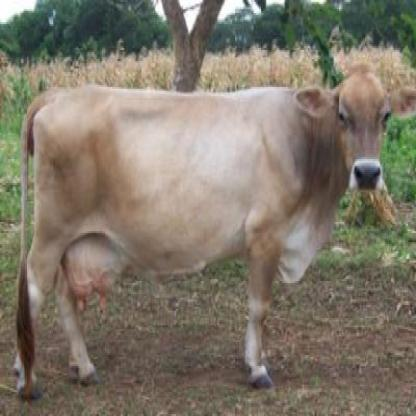mouth: (350, 156, 382, 198)
upper: (361, 166, 373, 180)
